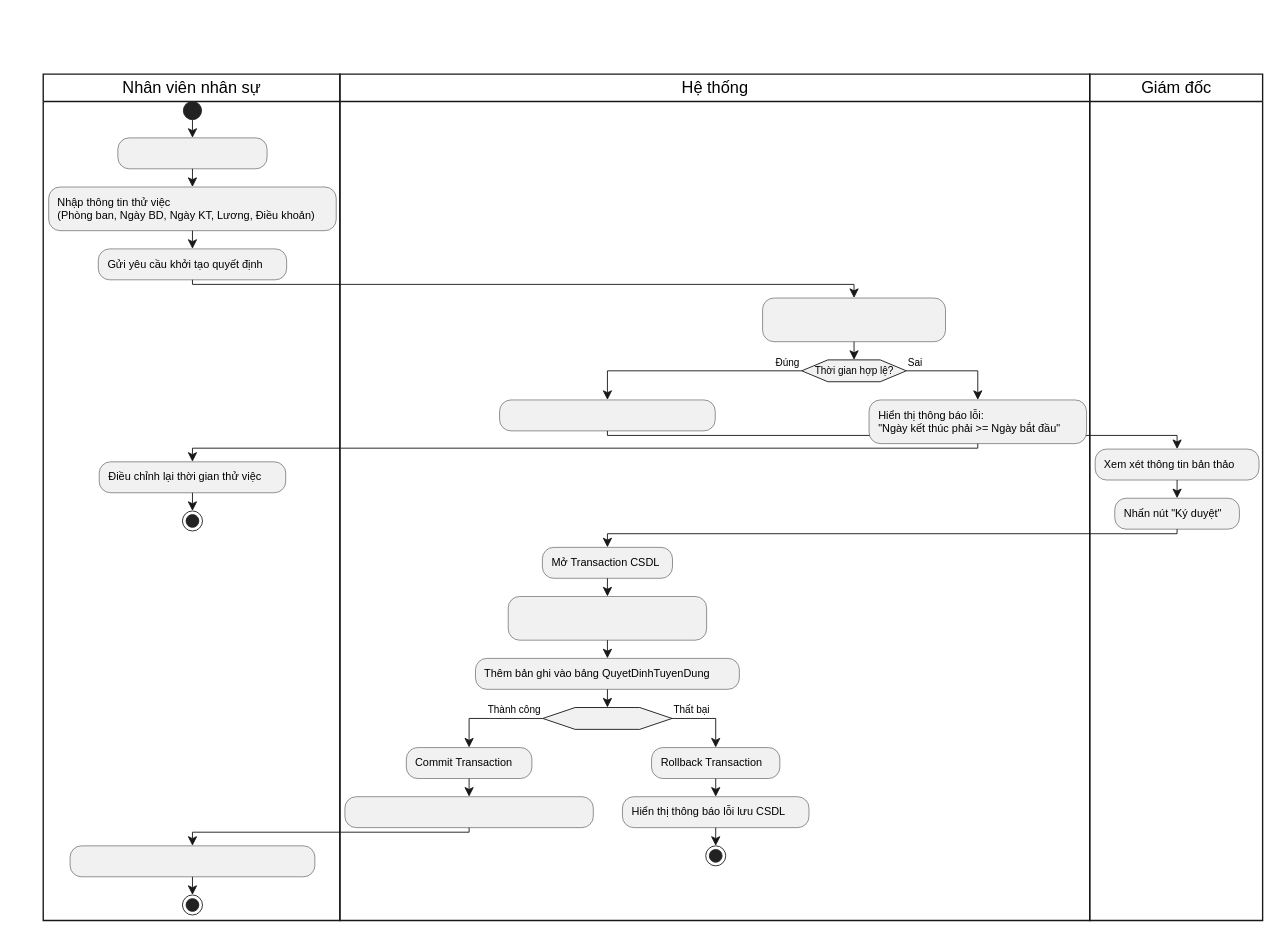
Some shapes in this 1279 by 936 pixel diagram are drawn without their labels. The box of each missing label's shape, as (x1, y1, x2, y2) in pixels:
Hiển thị thông báo Tuyển dụng thành công: (344, 796, 593, 827)
Kiểm tra điều kiện: Ngày kết thúc >= Ngày bắt đầu: (762, 297, 945, 342)
Lưu CSDL thành công?: (542, 707, 672, 729)
Nhận kết quả và in Quyết định tuyển dụng: (69, 845, 315, 877)
Nhập hồ sơ ứng viên mới: (117, 137, 267, 169)
Thêm bản ghi vào bảng NhanVien (Trạng thái = "Thử việc"): (508, 596, 706, 640)
Tạo bản thảo Quyết định tuyển dụng: (499, 399, 715, 431)
